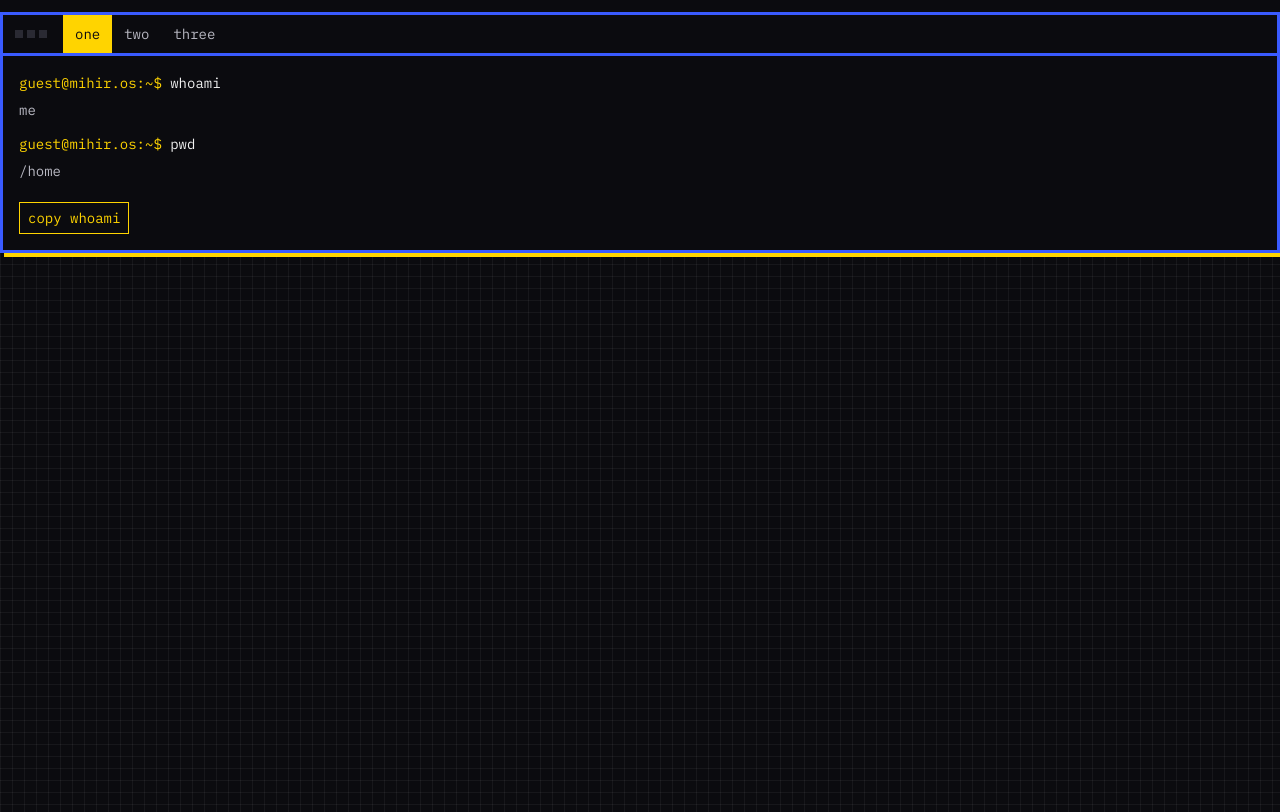
TerminalPanel › activates a tab on click
Click the tab "two" at (137, 34), box left=112, top=15, right=161, bottom=53
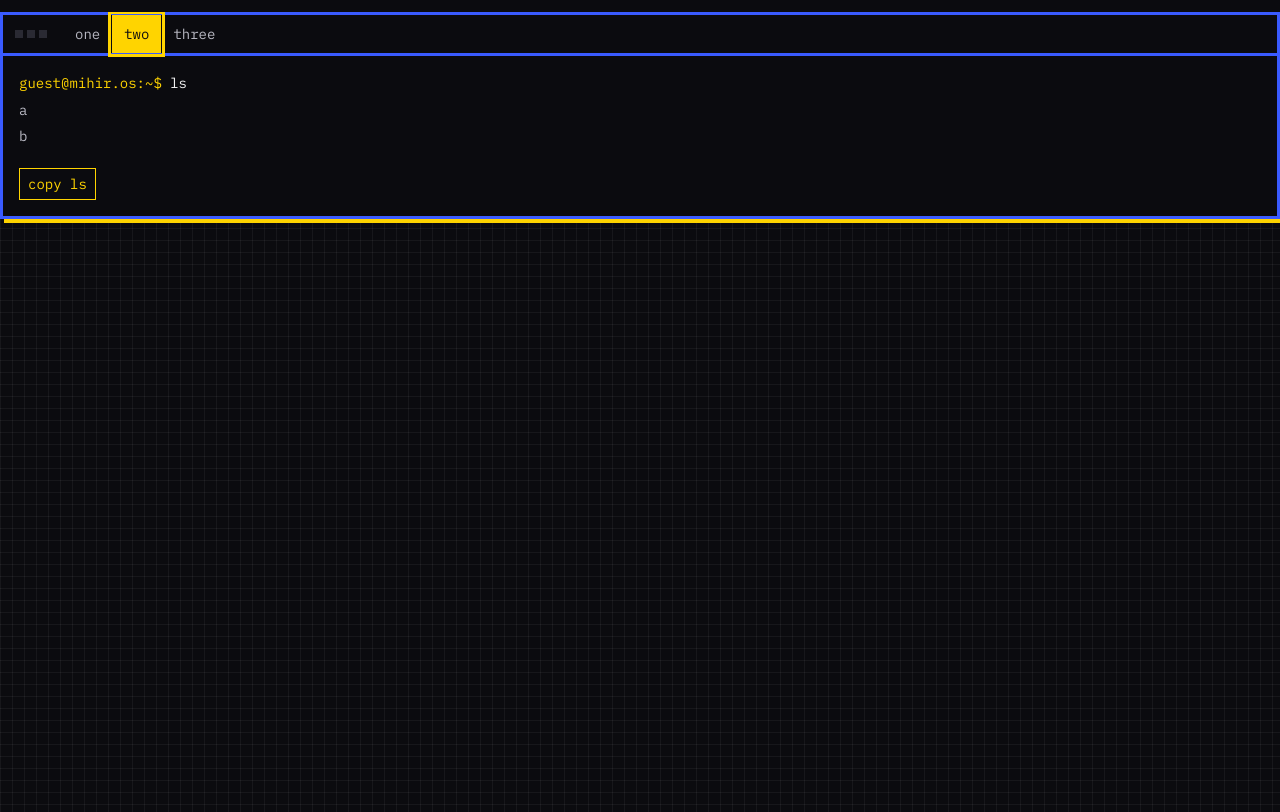
Check: the text "ls" is shown, box left=170, top=74, right=187, bottom=92
